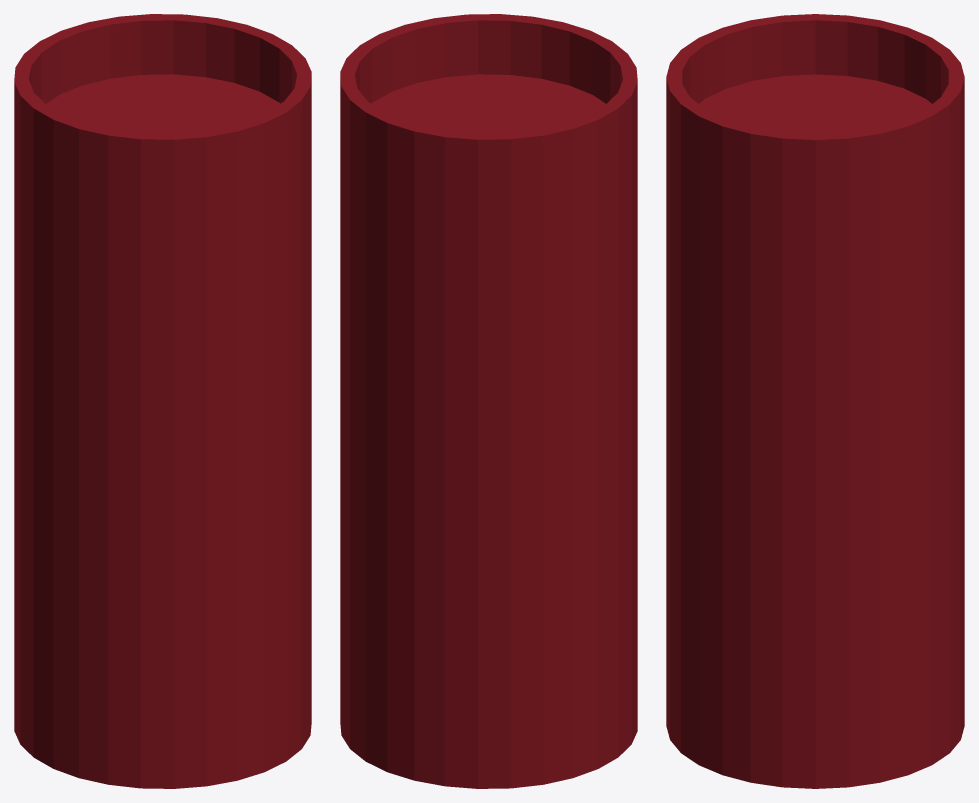
Rendered from can.dae.
The picture shows the model from 3 angles, left to right: view 1: azimuth 30°, elevation 25°; view 2: azimuth 150°, elevation 25°; view 3: azimuth 270°, elevation 25°; orthographic projection.
Visible parts, largest first — view 1: node; view 2: node; view 3: node.
Boxes of the visible parts, x1,y1,x2,y2 form: node: (14,14,311,788); node: (340,14,637,788); node: (666,14,964,788).
Size of the model in its own units: 0.05 by 0.05 by 0.12.
